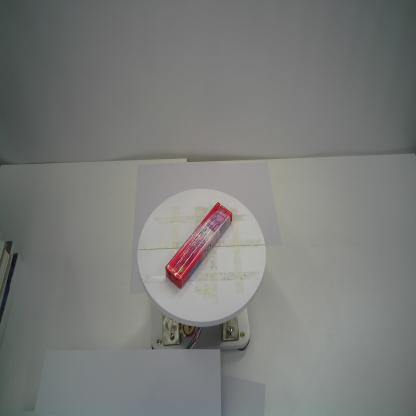Candy: (165, 201, 232, 289)
